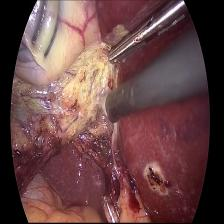Grasper: (101, 0, 190, 73)
Hook: (91, 87, 112, 125)
